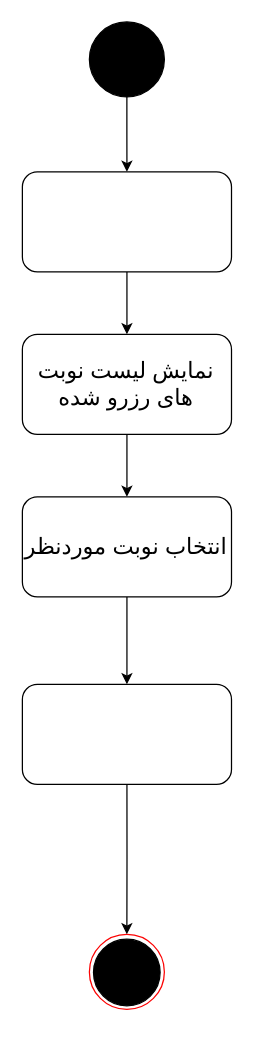
Image size: 254x1044. Some labels were removed from this diagram. The shapes that lost their labels are listed below. From the top down, each one's centre as x and y in pixels, then its label:
At (x=126, y=221): "زدن دکمه ی مشاهده ی نوبت ها".
At (x=126, y=733): "مشاهده ی جزئیات نوبت رزرو شده".
